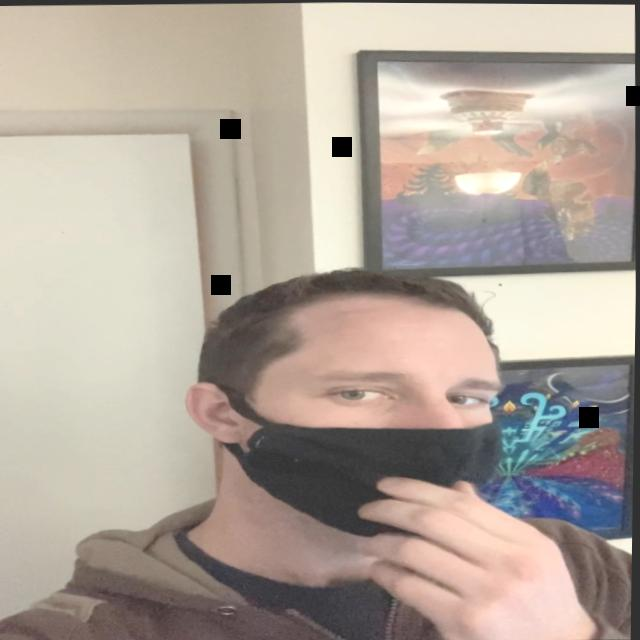Mask: (198, 278, 533, 540)
